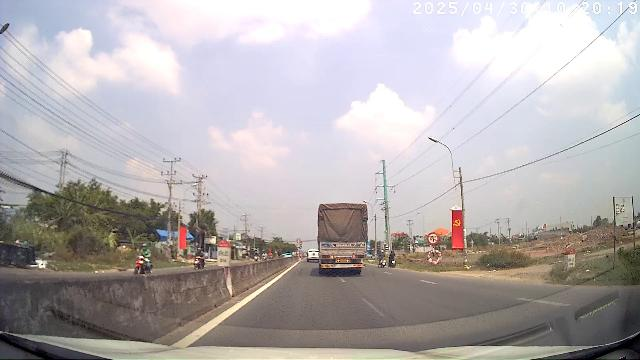124b-cam-oto-quay-dau-xe: (427, 232, 439, 245)
